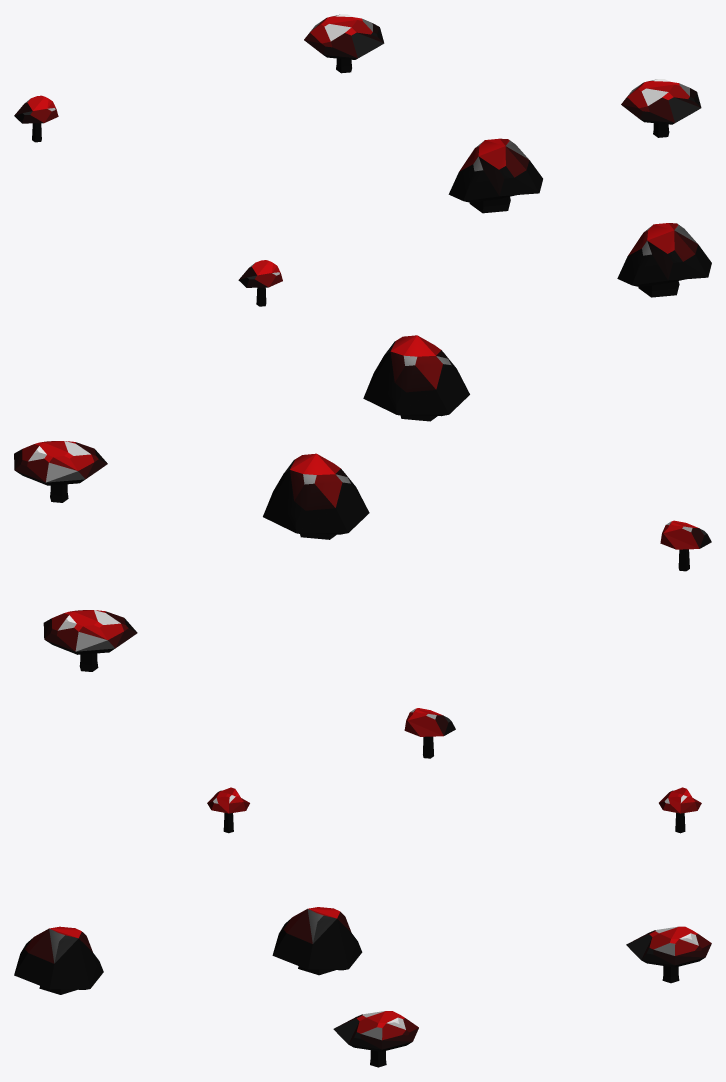
The model's file is mushroom2.fbx.
3 views of the same model, one above another, from view 1: azimuth 30°, elevation 25°; view 2: azimuth 150°, elevation 25°; view 3: azimuth 270°, elevation 25° (orthographic). The views are drawn at different scales.
Parts seen in each view (by area): view 1: SM_Mushroom_Red_4, SM_Mushroom_Red_03_31, SM_Mushroom_Red_02_28, SM_Mushroom_Red_3, SM_Mushroom_Red_2, SM_Mushroom_Red_01_25; view 2: SM_Mushroom_Red_03_31, SM_Mushroom_Red_4, SM_Mushroom_Red_02_28, SM_Mushroom_Red_3, SM_Mushroom_Red_01_25, SM_Mushroom_Red_2; view 3: SM_Mushroom_Red_03_31, SM_Mushroom_Red_4, SM_Mushroom_Red_3, SM_Mushroom_Red_02_28, SM_Mushroom_Red_01_25, SM_Mushroom_Red_2.
Boxes of the visible parts, x1,y1,x2,y2 form: SM_Mushroom_Red_4: (617, 223, 711, 297); SM_Mushroom_Red_03_31: (448, 138, 542, 213); SM_Mushroom_Red_02_28: (621, 79, 701, 137); SM_Mushroom_Red_3: (304, 14, 384, 73); SM_Mushroom_Red_2: (14, 95, 58, 142); SM_Mushroom_Red_01_25: (238, 260, 282, 306); SM_Mushroom_Red_03_31: (263, 453, 369, 539); SM_Mushroom_Red_4: (363, 335, 469, 421); SM_Mushroom_Red_02_28: (14, 441, 107, 502); SM_Mushroom_Red_3: (43, 610, 137, 671); SM_Mushroom_Red_01_25: (660, 520, 711, 571); SM_Mushroom_Red_2: (404, 708, 455, 758); SM_Mushroom_Red_03_31: (272, 907, 362, 975); SM_Mushroom_Red_4: (14, 926, 103, 994); SM_Mushroom_Red_3: (626, 926, 711, 983); SM_Mushroom_Red_02_28: (333, 1011, 418, 1067); SM_Mushroom_Red_01_25: (207, 787, 249, 833); SM_Mushroom_Red_2: (659, 787, 701, 833).
Size of the model in its own units: 1982 by 217 by 2241.
